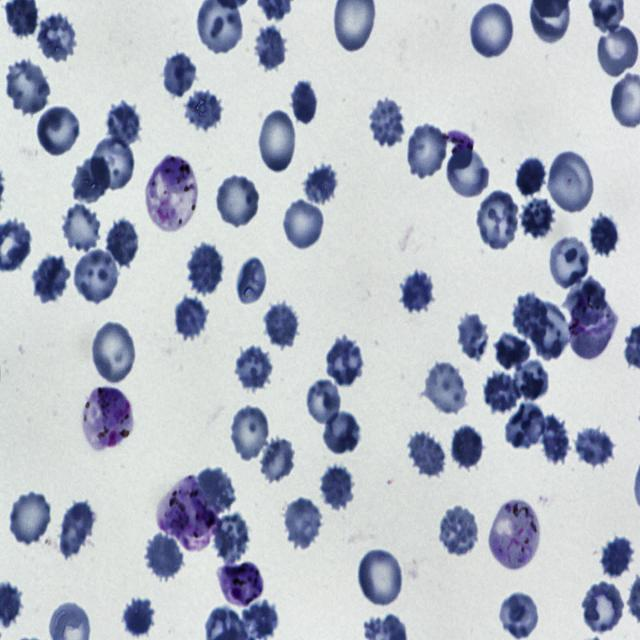difficult: (147, 157, 198, 231), (82, 386, 132, 448)
red blood cell: (546, 149, 595, 216), (356, 546, 406, 608), (90, 319, 137, 384), (570, 294, 617, 359), (474, 191, 522, 251), (469, 0, 516, 60), (72, 248, 122, 304), (257, 107, 298, 175), (90, 132, 136, 192), (4, 59, 51, 117), (421, 360, 469, 416), (228, 402, 272, 463), (215, 171, 262, 228), (548, 233, 593, 292), (406, 120, 450, 180), (8, 488, 53, 546), (280, 496, 326, 552), (35, 104, 82, 158), (579, 581, 625, 634), (59, 498, 98, 558), (282, 198, 325, 252), (60, 199, 103, 253), (530, 300, 568, 360), (324, 335, 366, 389), (447, 147, 490, 198), (597, 24, 638, 77), (72, 153, 112, 206), (438, 507, 480, 557), (504, 402, 546, 451), (143, 531, 184, 581), (233, 344, 275, 392), (209, 514, 251, 562), (182, 86, 224, 134), (499, 591, 541, 639), (186, 241, 224, 294), (321, 408, 362, 457), (31, 253, 70, 304), (570, 425, 616, 468), (105, 99, 145, 148), (195, 466, 234, 516), (161, 49, 198, 99), (406, 432, 446, 478), (512, 290, 548, 341), (262, 302, 300, 350), (586, 208, 624, 256), (105, 217, 140, 269), (318, 464, 357, 510), (573, 276, 608, 327), (399, 267, 435, 316), (37, 14, 75, 60), (173, 293, 210, 340), (449, 426, 484, 474), (456, 313, 489, 363), (259, 437, 294, 484), (483, 370, 522, 412), (370, 98, 404, 146), (307, 381, 342, 426), (302, 162, 338, 204), (255, 25, 288, 70), (242, 601, 281, 639), (514, 358, 549, 400), (236, 256, 266, 304), (600, 537, 635, 578), (540, 414, 569, 463), (494, 332, 532, 369), (290, 80, 319, 125), (522, 197, 554, 237), (122, 599, 155, 637), (515, 156, 547, 195)
trophozoite: (156, 474, 212, 552), (490, 498, 540, 570), (219, 562, 262, 604)
